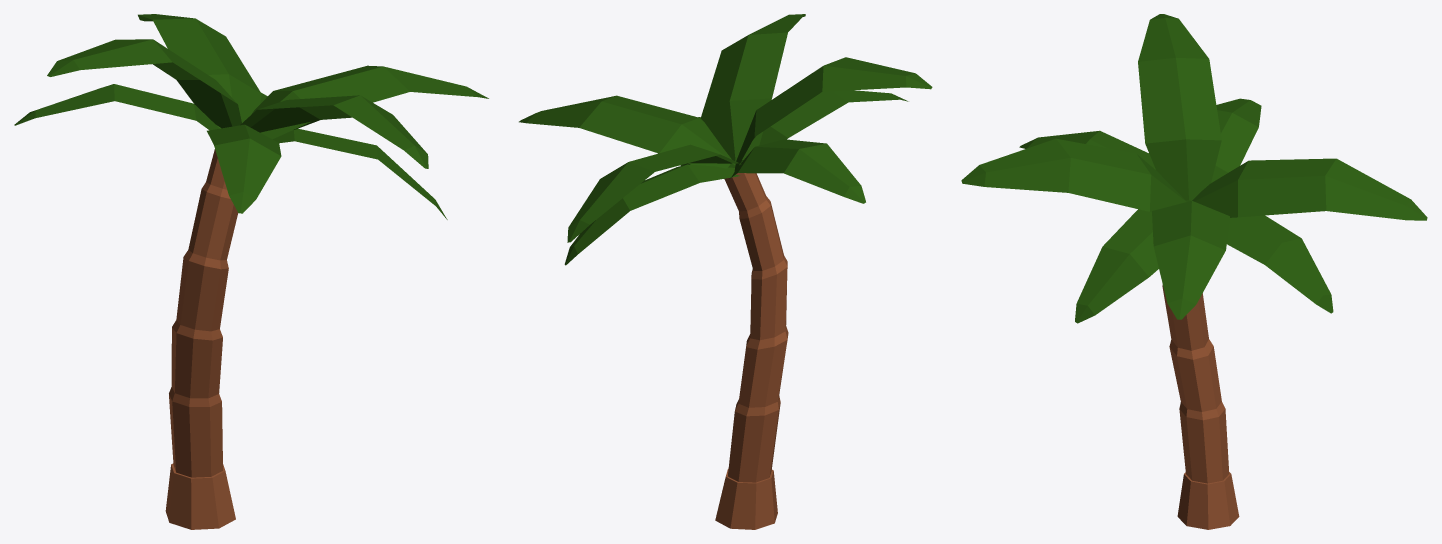
File: uploads_files_3231272_palm+tree.fbx
The picture shows the model from 3 angles, left to right: view 1: azimuth 30°, elevation 25°; view 2: azimuth 150°, elevation 25°; view 3: azimuth 270°, elevation 25°; orthographic projection. The views are drawn at different scales.
Parts seen in each view (by area): view 1: Circle; view 2: Circle; view 3: Circle.
Boxes of the visible parts, box(x1,y1,x2,y2) form: Circle: box(14, 14, 488, 529); Circle: box(519, 14, 932, 529); Circle: box(961, 14, 1427, 529).
Size of the model in its own units: 990 by 1074 by 1041.
